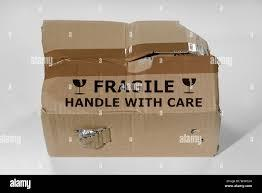damage_box: (39, 18, 222, 158)
